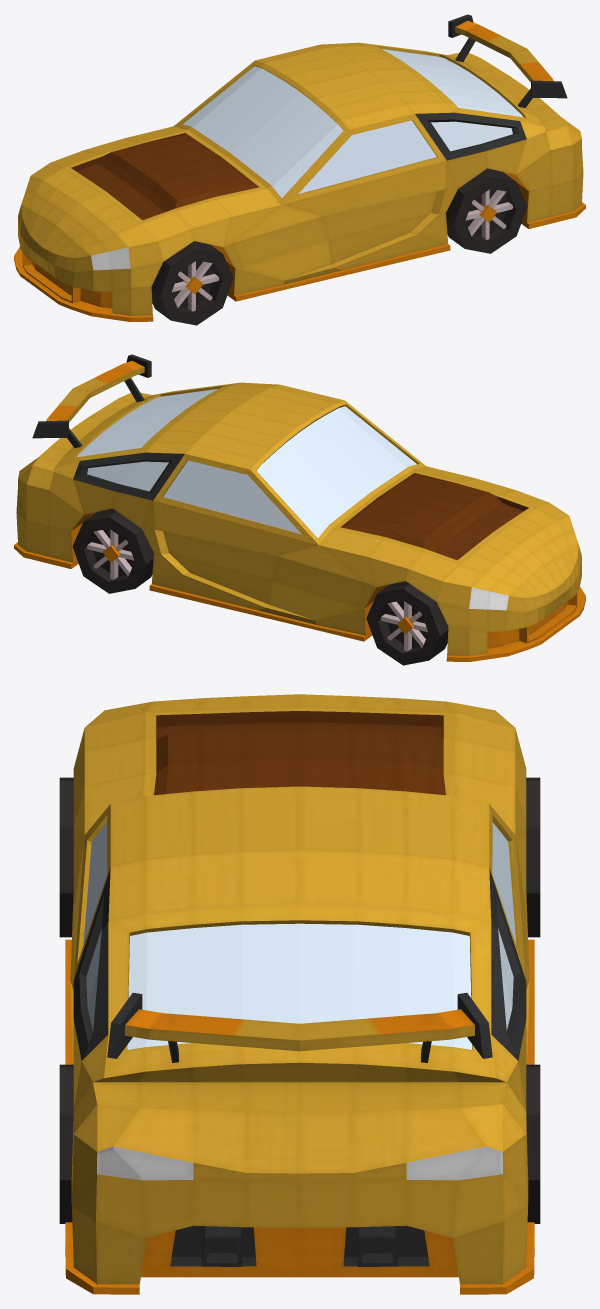
The model's file is Low_Poly_Race_Car.glb.
3 renders of one model, top to bottom at view 1: azimuth 30°, elevation 25°; view 2: azimuth 150°, elevation 25°; view 3: azimuth 270°, elevation 25°, orthographic. The views are drawn at different scales.
Parts seen in each view (by area): view 1: RaceCar_checker_material_512x512_0, RaceCar_Glass.001_0; view 2: RaceCar_checker_material_512x512_0, RaceCar_Glass.001_0; view 3: RaceCar_checker_material_512x512_0, RaceCar_Glass.001_0.
Part boxes in pixels (box(x1,y1,x2,y2)): RaceCar_checker_material_512x512_0: box(14, 14, 585, 325); RaceCar_Glass.001_0: box(183, 49, 522, 197); RaceCar_checker_material_512x512_0: box(14, 354, 585, 665); RaceCar_Glass.001_0: box(77, 389, 416, 537); RaceCar_checker_material_512x512_0: box(59, 694, 540, 1294); RaceCar_Glass.001_0: box(83, 822, 516, 1049).
Bounding box in the file's own units: 4.35 × 1.29 × 1.81.
Materials: 2 (1 with a texture image).
